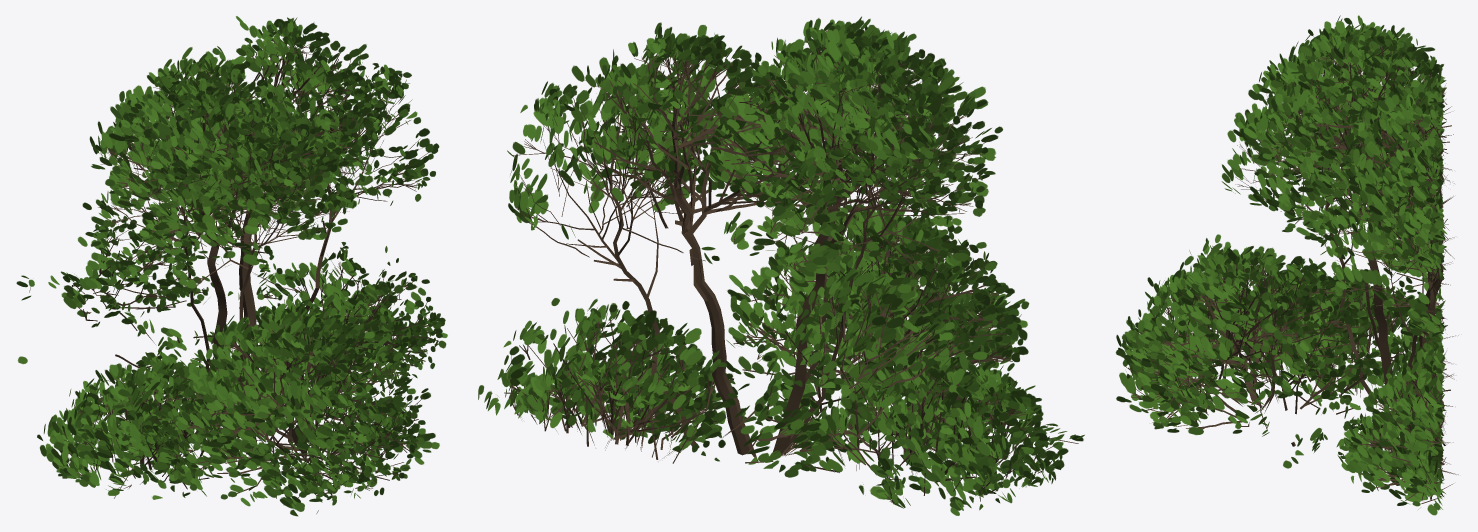
3 renders of one model, left to right at view 1: azimuth 30°, elevation 25°; view 2: azimuth 150°, elevation 25°; view 3: azimuth 270°, elevation 25°, orthographic. The views are drawn at different scales.
Parts seen in each view (by area): view 1: oak 01.001_trunk_Mat.001_0.217; view 2: oak 01.001_trunk_Mat.001_0.217; view 3: oak 01.001_trunk_Mat.001_0.217.
Part boxes in pixels (<box>): oak 01.001_trunk_Mat.001_0.217: <box>16,16,447,516</box>; oak 01.001_trunk_Mat.001_0.217: <box>478,16,1084,515</box>; oak 01.001_trunk_Mat.001_0.217: <box>1115,15,1458,515</box>.
Bounding box in the file's own units: 3.87 × 3.26 × 2.69.
2 materials, 1 textured.
